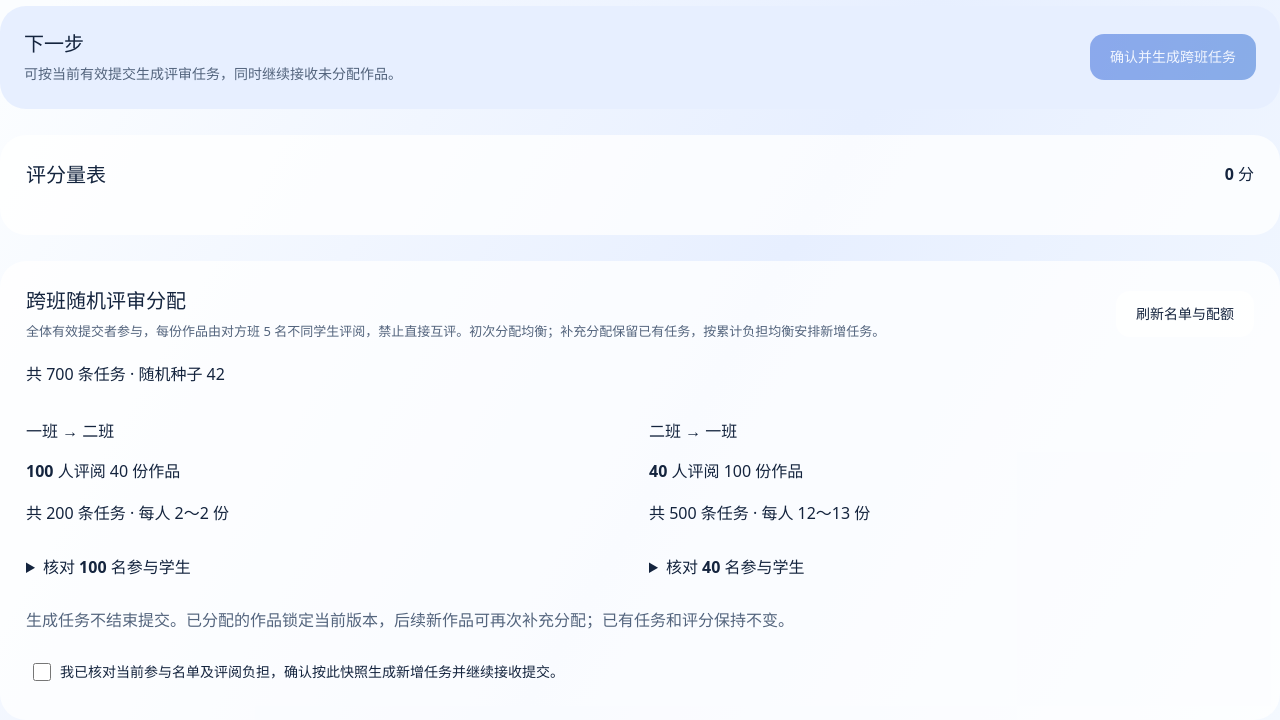
Test: 跨班分配确认 › 预览更新后必须重新确认
(page scrolled)
Click the checkbox labelled "我已核对当前参与名单及评阅负担，确认按此快照生成新增任务并继续接收提交。".
click(42, 672)  # box [33,663,51,681]
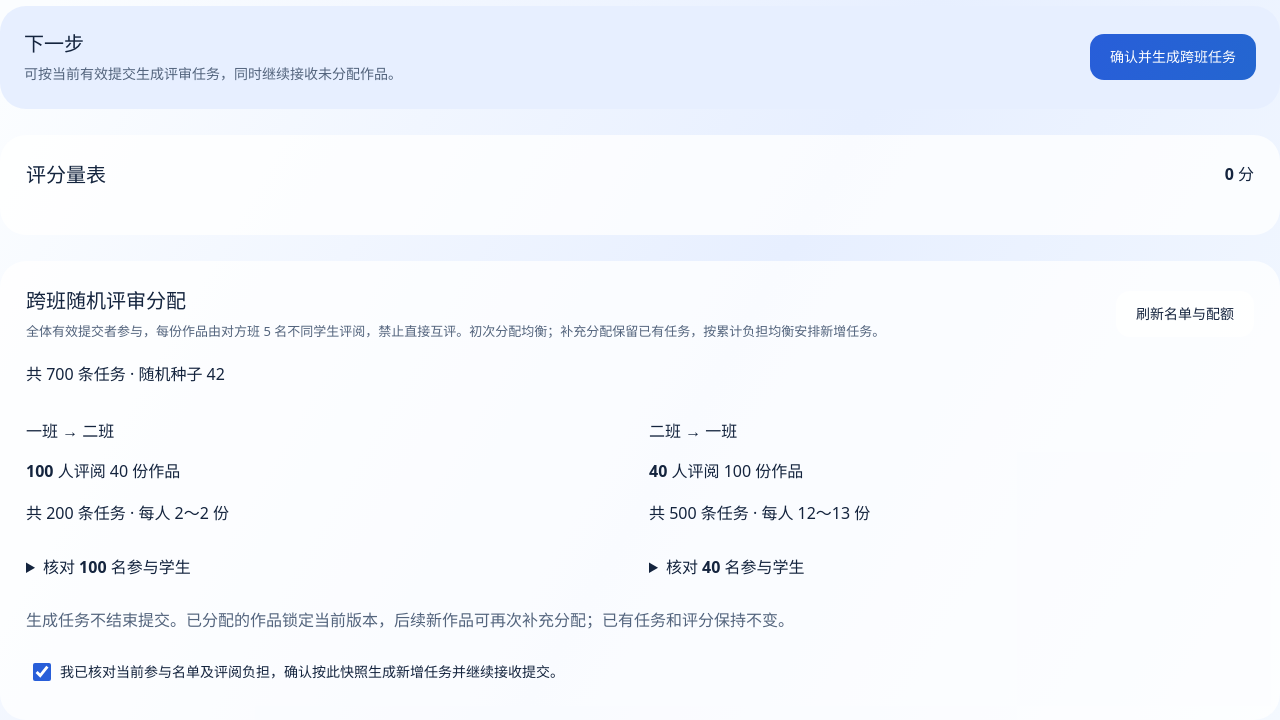
Click the button "刷新名单与配额".
click(1185, 314)  # box [1116,292,1254,338]
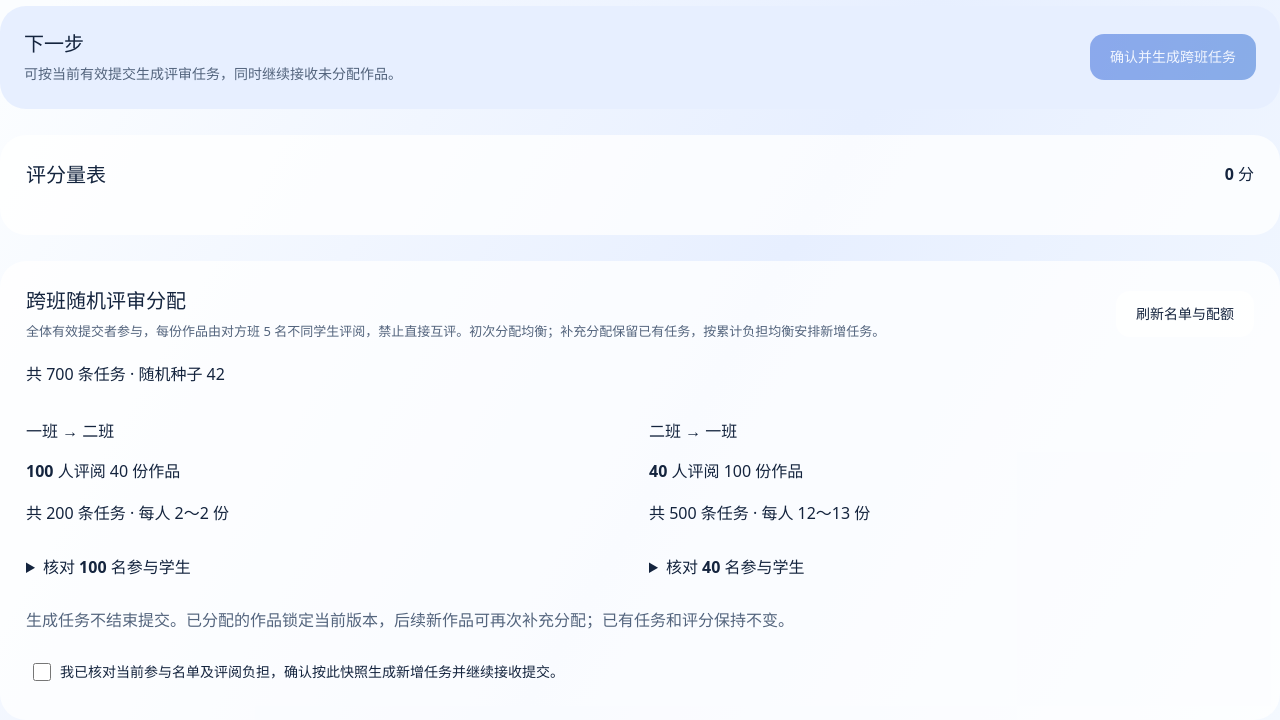
Now the button "确认并生成跨班任务" is disabled, box [1090,34,1256,80]
